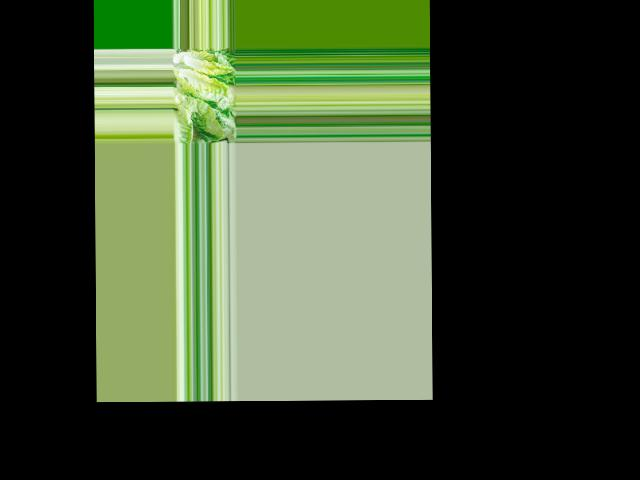lettuce: (172, 50, 232, 111)
